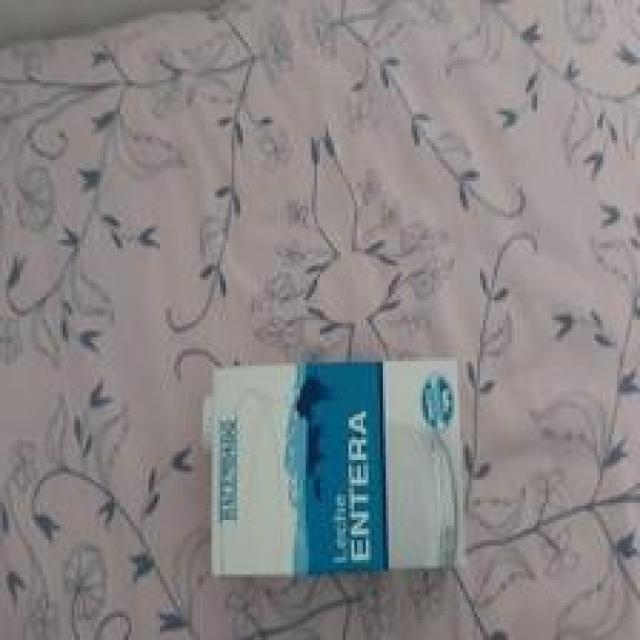Carton: (211, 357, 465, 574)
